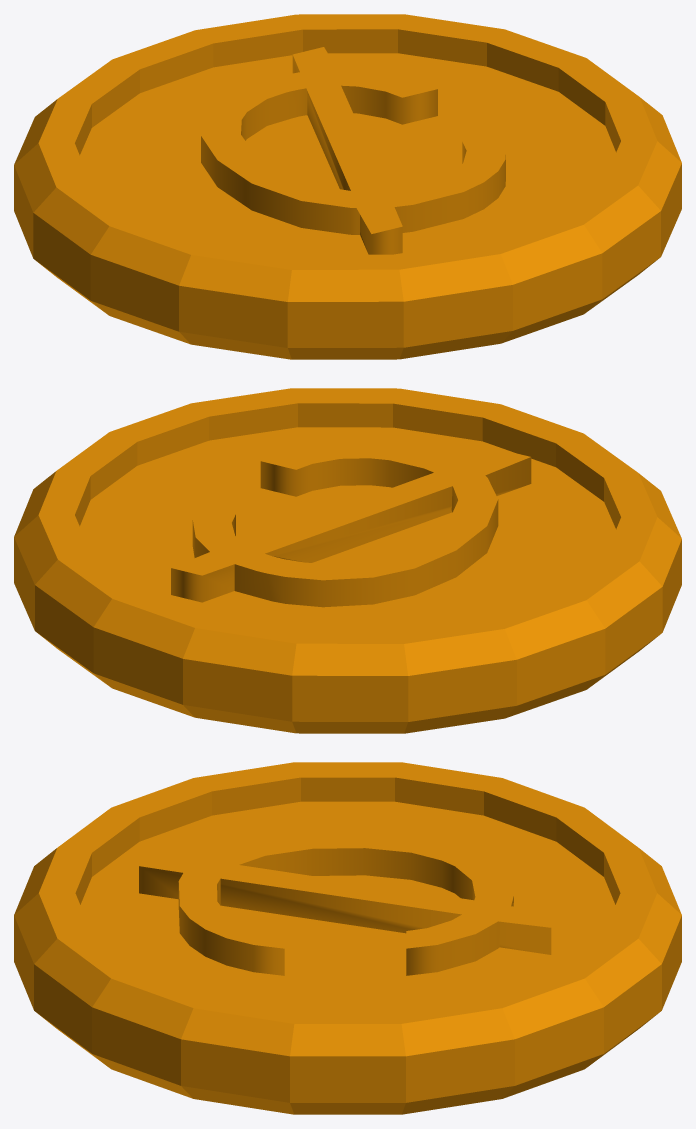
Rendered from Coin_New.glb.
3 views of the same model, one above another, from view 1: azimuth 30°, elevation 25°; view 2: azimuth 150°, elevation 25°; view 3: azimuth 270°, elevation 25° (orthographic).
Visible parts, largest first — view 1: Coin_New; view 2: Coin_New; view 3: Coin_New.
Part boxes in pixels (x1,y1,x2,y2): Coin_New: [14, 14, 681, 359]; Coin_New: [14, 388, 681, 733]; Coin_New: [14, 762, 681, 1114].
Size of the model in its own units: 2 by 0.32 by 2.
